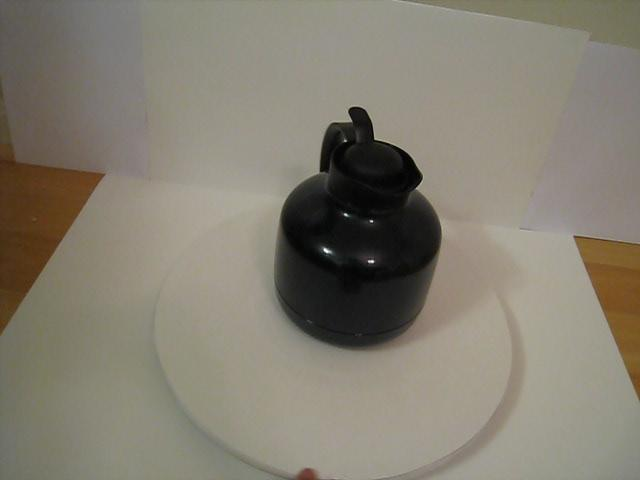pitcher: (272, 96, 445, 352)
